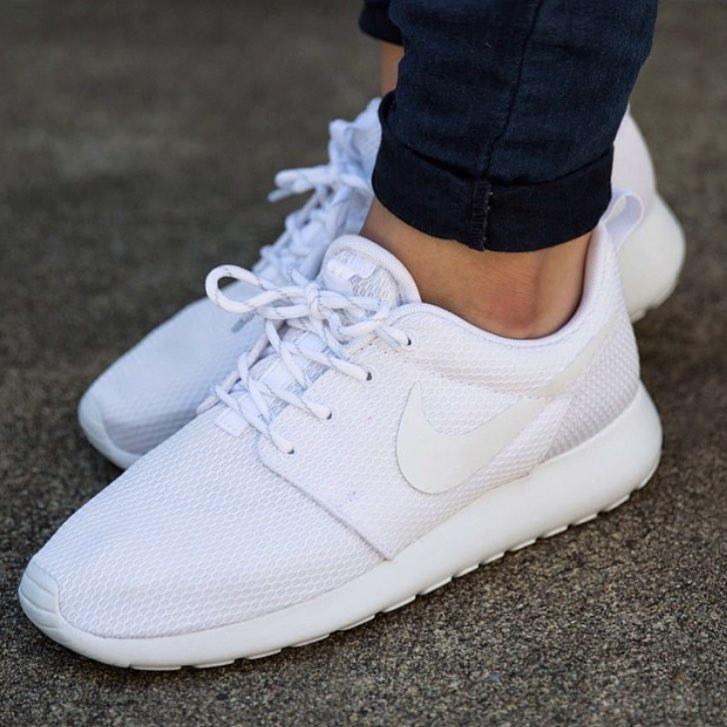sneaker: (6, 161, 679, 704), (59, 25, 427, 507), (577, 59, 701, 345)
